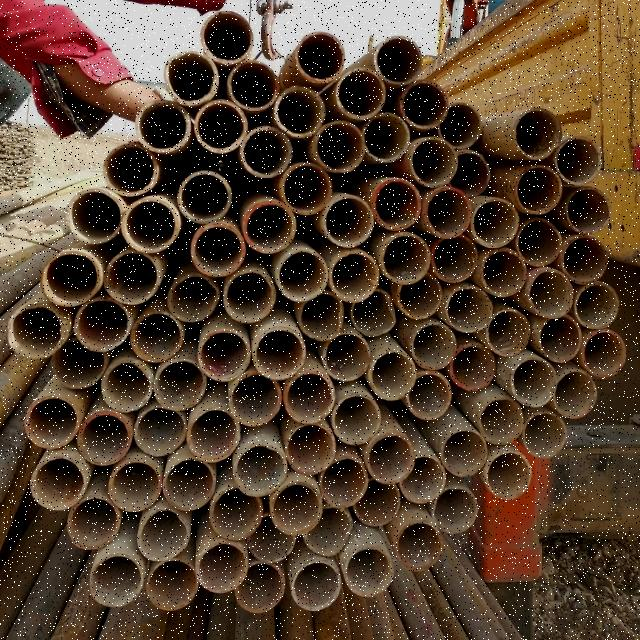pipe: (120, 195, 182, 254), (65, 184, 125, 244), (40, 250, 102, 308), (8, 301, 65, 361), (164, 49, 222, 107), (102, 140, 160, 198), (190, 220, 248, 278), (240, 198, 300, 254), (193, 96, 250, 154), (134, 98, 193, 154), (238, 124, 296, 180), (74, 296, 132, 352), (228, 369, 284, 427), (66, 494, 122, 552), (104, 250, 161, 306), (31, 454, 88, 510), (200, 9, 256, 65), (78, 410, 134, 466), (162, 456, 218, 512), (89, 551, 145, 607), (177, 169, 234, 224), (51, 336, 109, 390), (153, 356, 209, 411), (312, 118, 369, 172), (273, 82, 329, 136), (378, 230, 432, 286), (276, 247, 330, 303), (100, 359, 156, 413), (270, 480, 324, 536), (25, 394, 81, 448), (210, 484, 264, 540), (108, 458, 164, 512), (280, 161, 334, 216), (323, 192, 376, 248), (224, 268, 277, 324), (130, 310, 186, 363), (228, 58, 282, 112), (198, 328, 252, 382), (235, 442, 289, 496), (188, 408, 242, 462), (196, 539, 250, 593), (335, 65, 388, 120), (284, 369, 337, 424), (166, 272, 222, 324), (254, 324, 306, 380), (134, 404, 188, 457), (137, 508, 190, 562), (147, 557, 200, 611), (400, 77, 452, 132), (286, 421, 338, 476), (512, 106, 564, 160), (370, 177, 422, 231), (366, 430, 418, 484), (332, 392, 384, 446), (329, 249, 380, 304), (362, 110, 413, 164), (423, 185, 474, 239), (303, 502, 354, 556), (470, 197, 522, 249), (292, 560, 344, 612), (296, 30, 346, 84), (237, 560, 287, 614), (410, 136, 461, 188), (374, 34, 426, 84), (322, 330, 372, 382), (320, 456, 370, 508), (485, 448, 533, 502), (247, 512, 298, 562), (516, 163, 564, 216), (406, 369, 454, 422), (560, 234, 610, 284), (440, 427, 490, 477), (353, 476, 403, 526), (528, 267, 576, 319), (298, 289, 346, 341), (511, 356, 559, 408), (370, 349, 418, 401), (396, 520, 444, 572), (347, 546, 395, 598), (516, 217, 564, 267), (351, 287, 399, 337), (450, 342, 498, 392), (400, 454, 448, 504), (556, 135, 603, 185), (481, 246, 528, 296), (432, 233, 479, 283), (480, 396, 527, 446), (447, 147, 492, 199), (445, 286, 493, 334), (566, 186, 612, 236), (576, 280, 622, 330), (486, 307, 532, 357), (398, 270, 444, 320), (554, 369, 600, 419), (433, 485, 480, 533), (412, 321, 458, 370), (523, 410, 568, 460), (438, 102, 484, 150), (582, 331, 628, 378), (538, 314, 583, 362)
